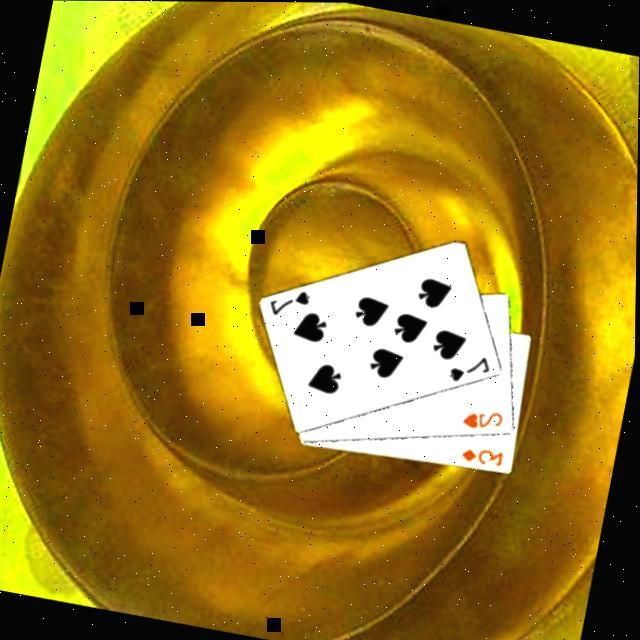2H: (456, 400, 506, 434)
3D: (457, 439, 506, 469)
7S: (445, 346, 494, 388), (263, 281, 312, 322)
